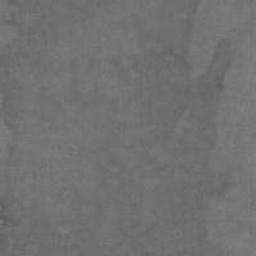Water spot: (0, 0, 242, 256)
